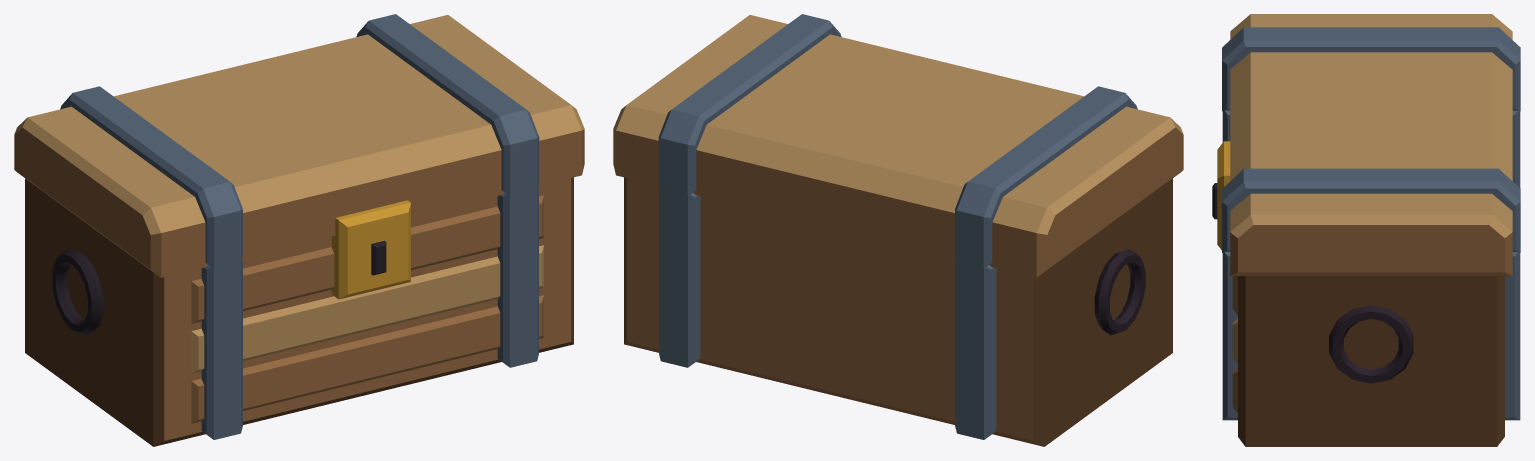
File: Chest_02.glb
3 views of the same model, side by side, from view 1: azimuth 30°, elevation 25°; view 2: azimuth 150°, elevation 25°; view 3: azimuth 270°, elevation 25° (orthographic). The views are drawn at different scales.
Parts seen in each view (by area): view 1: Chest_02; view 2: Chest_02; view 3: Chest_02.
Part boxes in pixels (left/top/right/bottom): Chest_02: left=14, top=14, right=584, bottom=446; Chest_02: left=613, top=14, right=1183, bottom=446; Chest_02: left=1212, top=14, right=1520, bottom=446.
Size of the model in its own units: 4.02 by 2.09 by 2.41.
